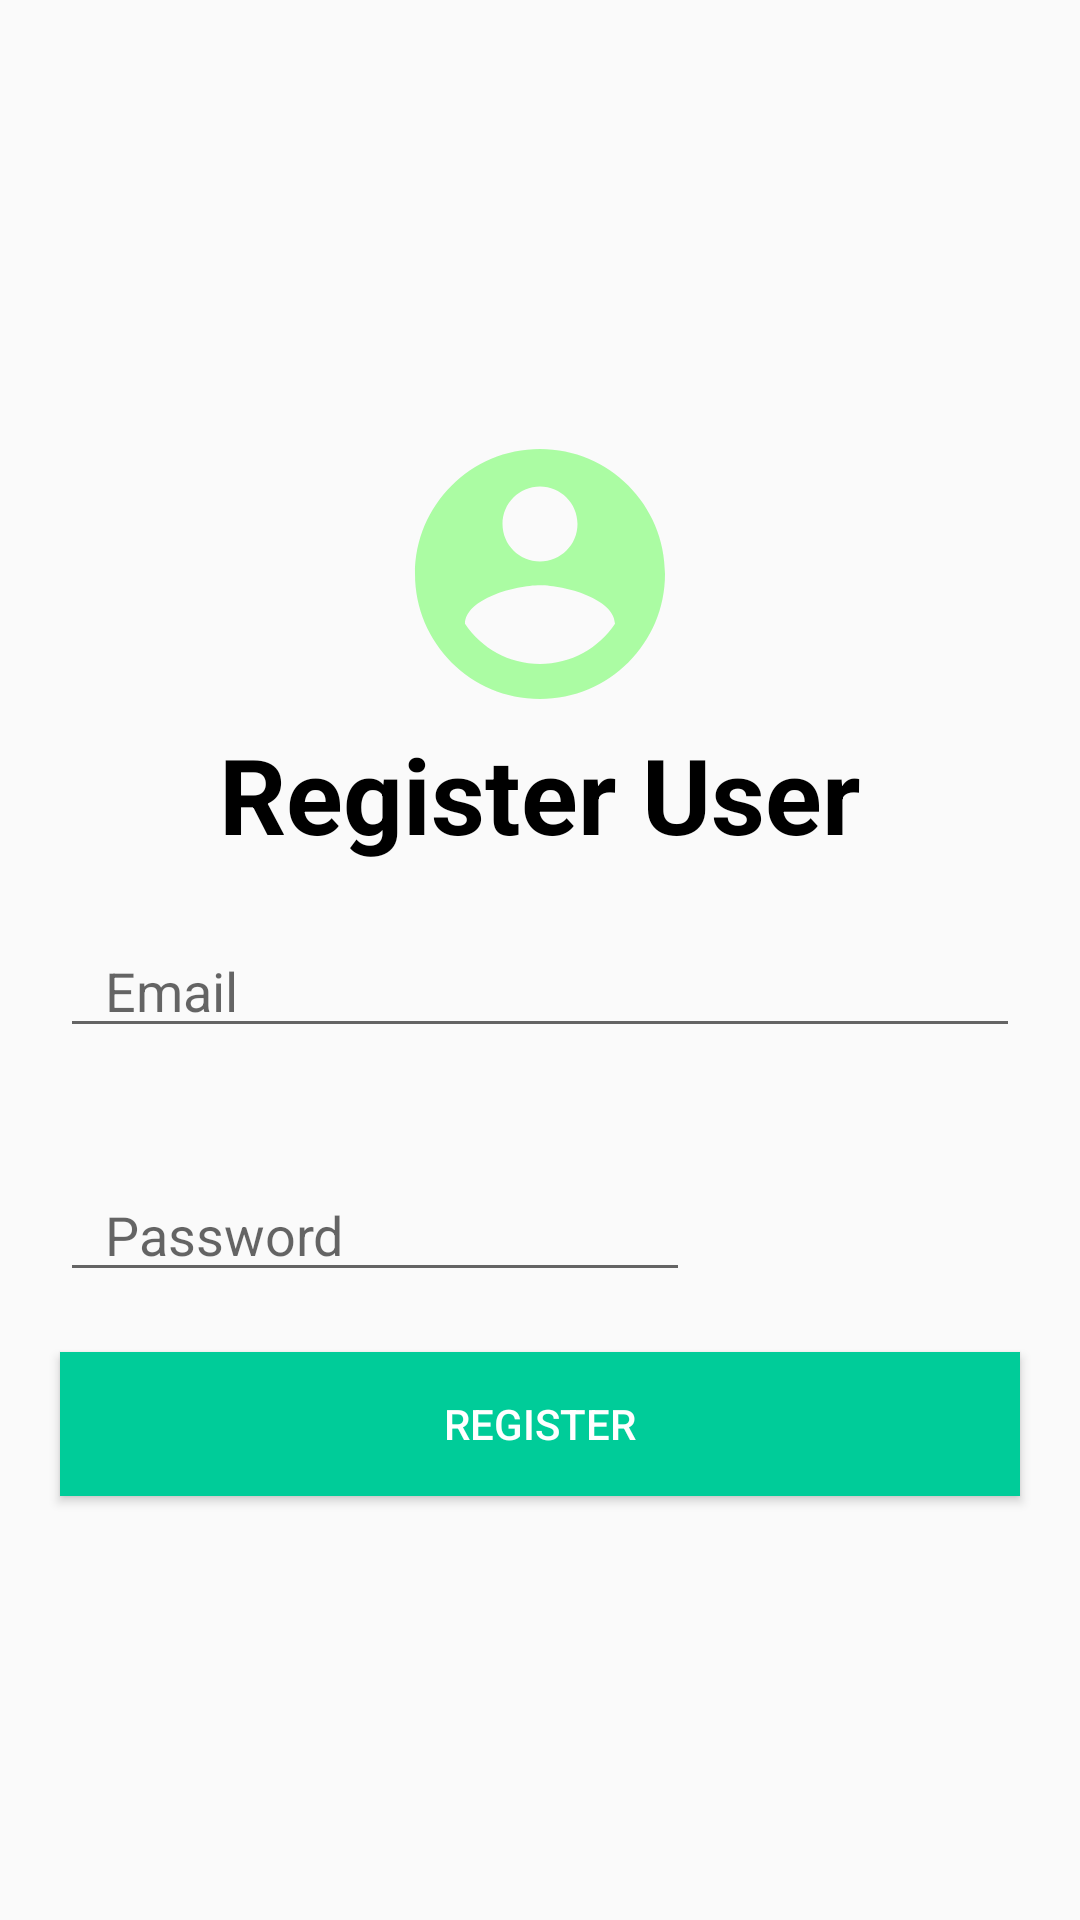

Icon bounding boxes for this 1080 × 1920 phone screenshot, format (x1, y1, x2, y2):
profile log inn: (415, 449, 665, 699)
